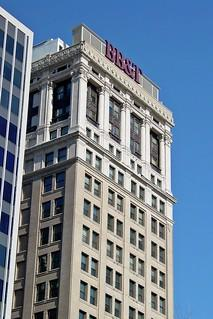building: (24, 21, 176, 319)
